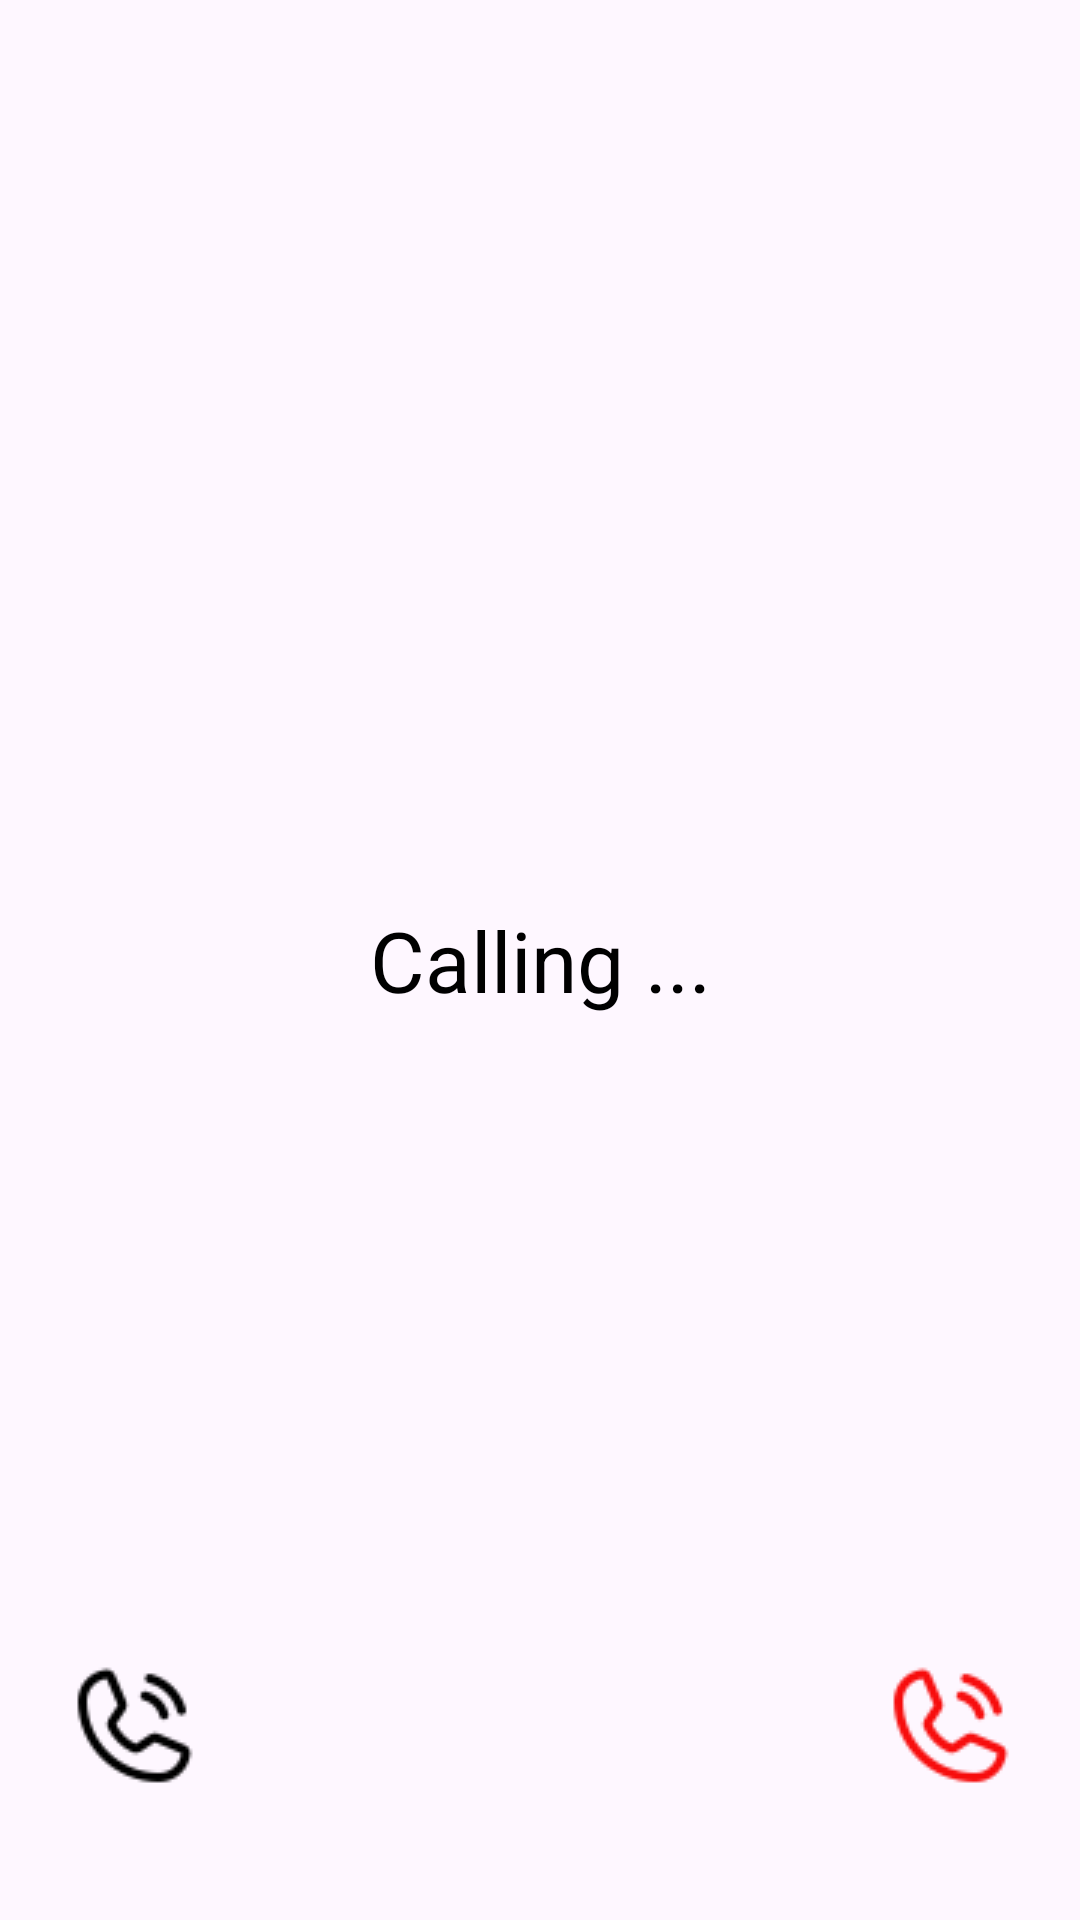

Screen size 1080*1920. Icon name, then its box in pixels as (x1, y1, x2, y2):
call: (77, 1667, 193, 1783)
reject: (893, 1667, 1009, 1783)
